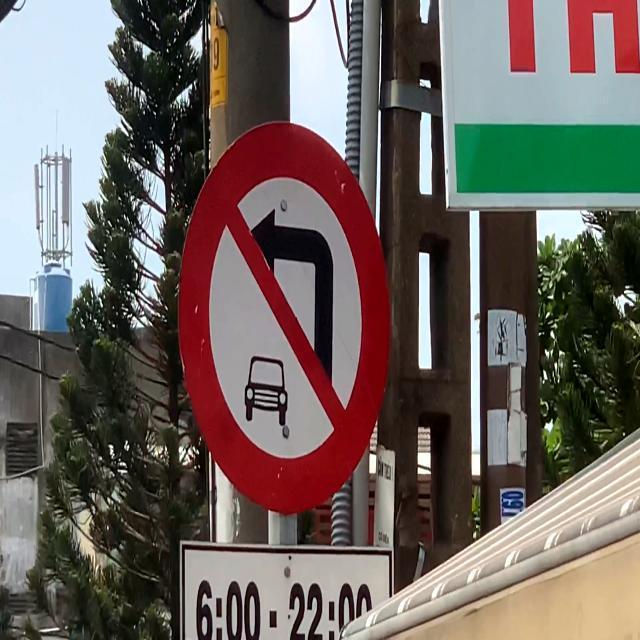123a-cam-re-trai: (176, 119, 394, 509)
